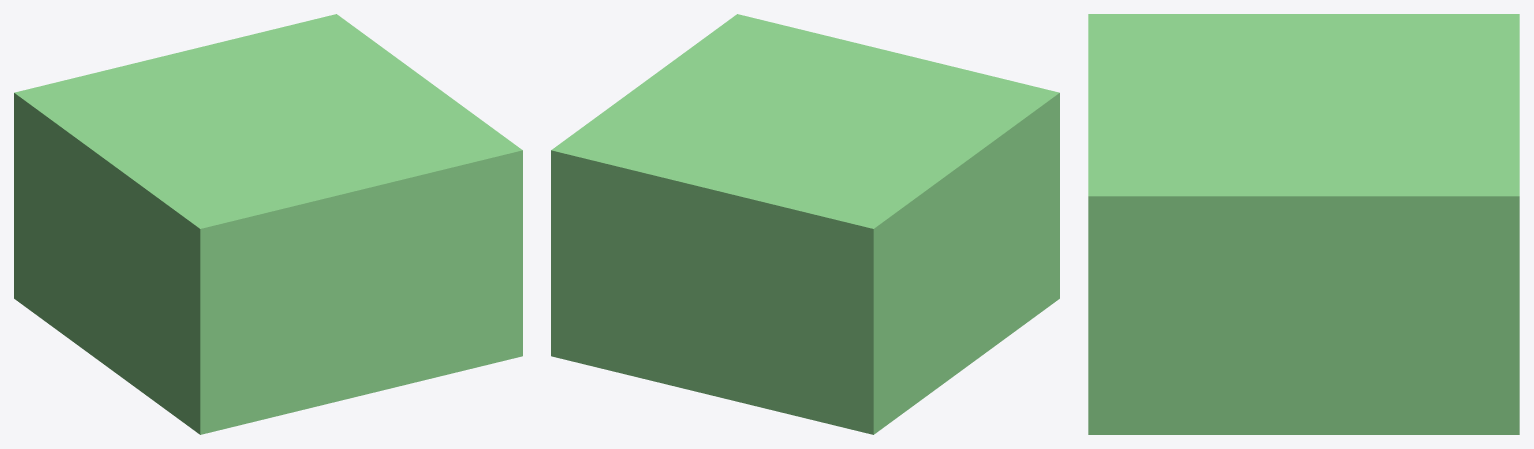
File: palm_bush.DAE
3 renders of one model, left to right at view 1: azimuth 30°, elevation 25°; view 2: azimuth 150°, elevation 25°; view 3: azimuth 270°, elevation 25°, orthographic. The views are drawn at different scales.
Visible parts, largest first — view 1: bounds; view 2: bounds; view 3: bounds.
Boxes of the visible parts, left/top/right/bottom form: bounds: left=14, top=14, right=522, bottom=434; bounds: left=551, top=14, right=1059, bottom=434; bounds: left=1088, top=14, right=1519, bottom=434.
Bounding box in the file's own units: 5.17 × 5.17 × 3.29.
